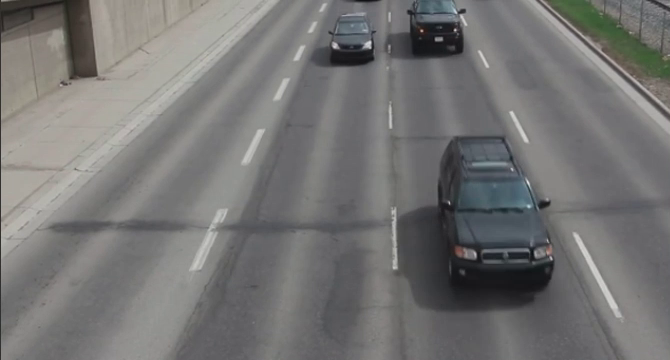car: (433, 131, 557, 296), (408, 2, 469, 60), (332, 14, 374, 65)
